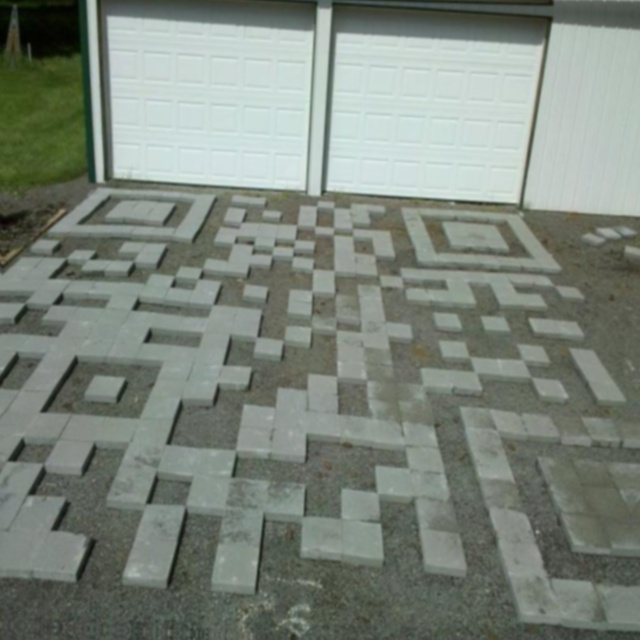qr-code: (0, 182, 640, 630)
